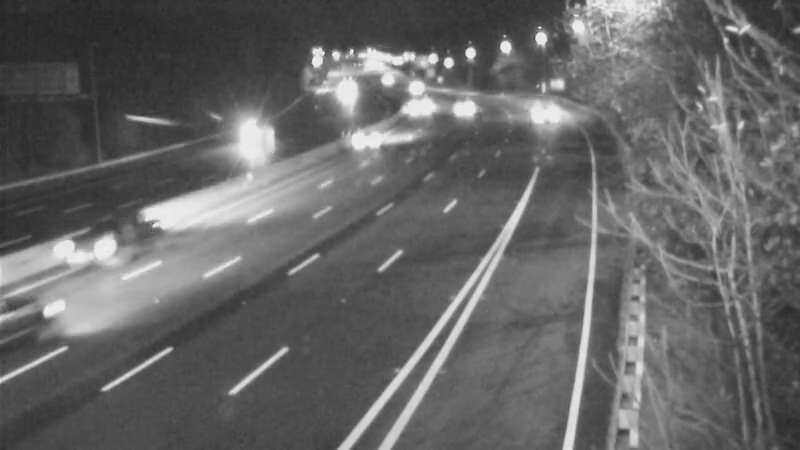vehicle: (1, 265, 99, 375), (42, 205, 122, 285), (356, 54, 406, 104), (386, 64, 436, 114), (516, 88, 566, 138), (439, 82, 489, 132), (389, 79, 439, 129), (350, 111, 400, 161), (212, 111, 262, 161), (319, 65, 369, 115)
